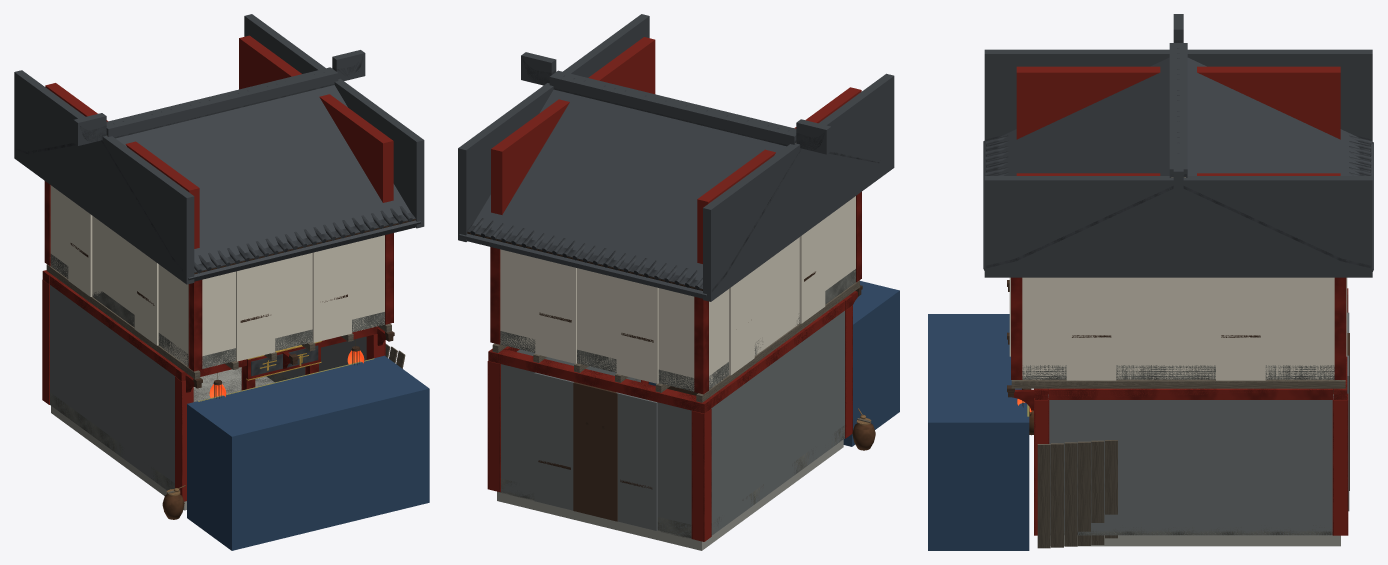
Rendered from kit_shop_house.gltf.
3 views of the same model, side by side, from view 1: azimuth 30°, elevation 25°; view 2: azimuth 150°, elevation 25°; view 3: azimuth 270°, elevation 25° (orthographic). The views are drawn at different scales.
Visible parts, largest first — view 1: Far, Near, Detail; view 2: Far, Near, Detail; view 3: Far, Near.
Boxes of the visible parts, <box> form: Far: <box>14,14,429,550</box>; Near: <box>16,57,415,501</box>; Detail: <box>162,338,364,519</box>; Far: <box>458,14,899,550</box>; Near: <box>467,59,879,541</box>; Detail: <box>667,386,875,450</box>; Far: <box>928,14,1373,550</box>; Near: <box>985,40,1371,548</box>.
Bounding box in the file's own units: 7.49 × 8.95 × 8.95.
23 materials, 22 textured.
